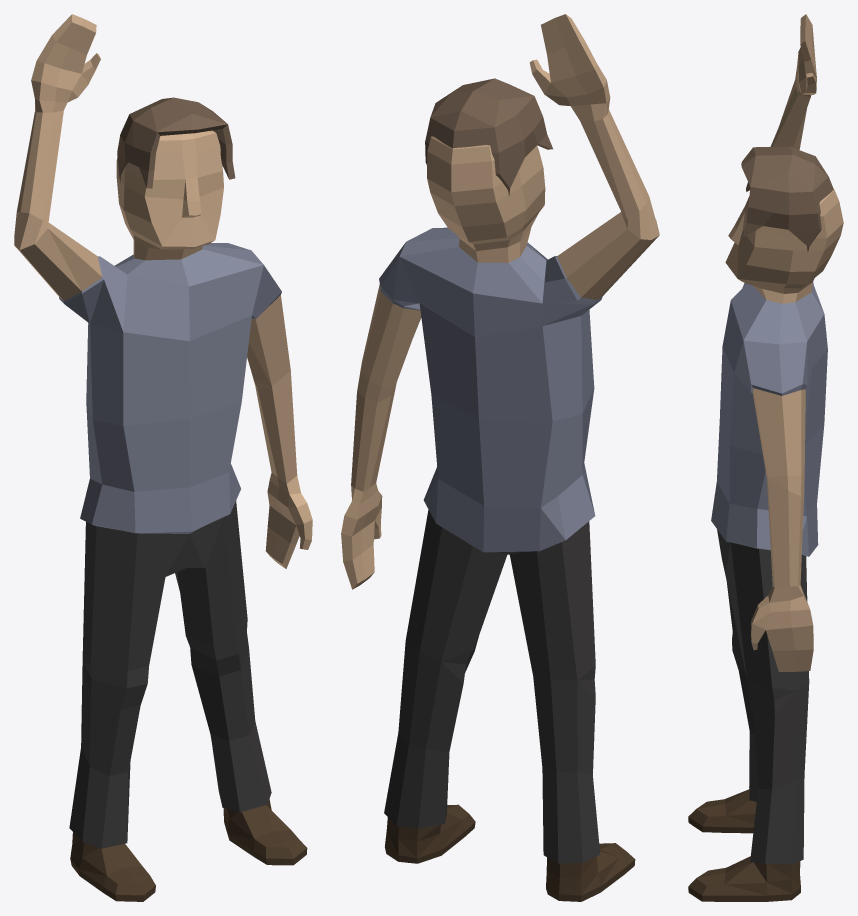
File: male_wave_hair1.glb
The picture shows the model from 3 angles, left to right: view 1: azimuth 30°, elevation 25°; view 2: azimuth 150°, elevation 25°; view 3: azimuth 270°, elevation 25°; orthographic projection. The views are drawn at different scales.
Visible parts, largest first — view 1: hair; view 2: hair; view 3: hair.
Part boxes in pixels (left/top/right/bottom): hair: left=14, top=14, right=312, bottom=901; hair: left=341, top=14, right=659, bottom=901; hair: left=688, top=14, right=843, bottom=901.
Bounding box in the file's own units: 0.7273 × 2.08 × 0.3632.
